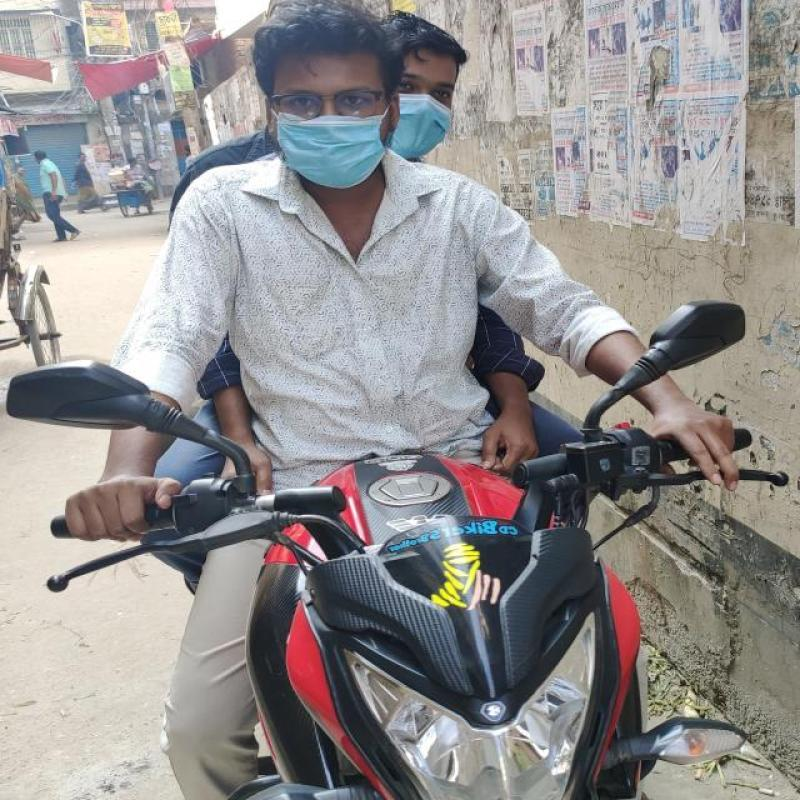nohelmet: (247, 0, 398, 192)
